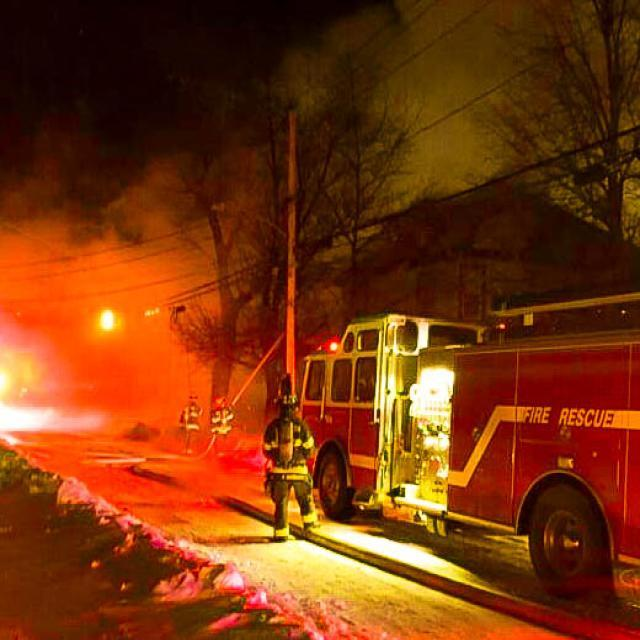Fire: (0, 226, 277, 516)
Smoke: (0, 1, 640, 218)
